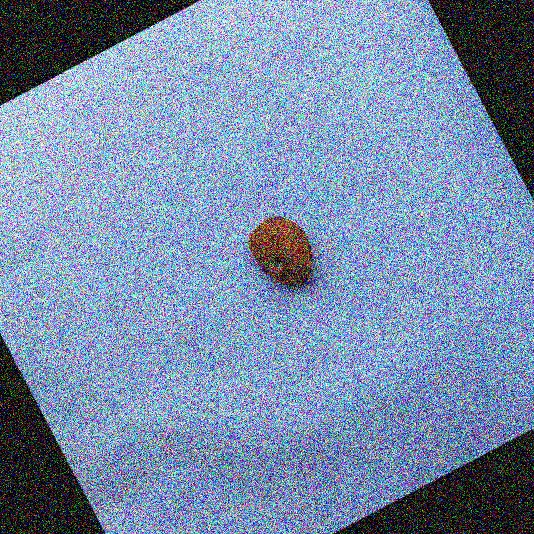grade3: (235, 203, 329, 304)
